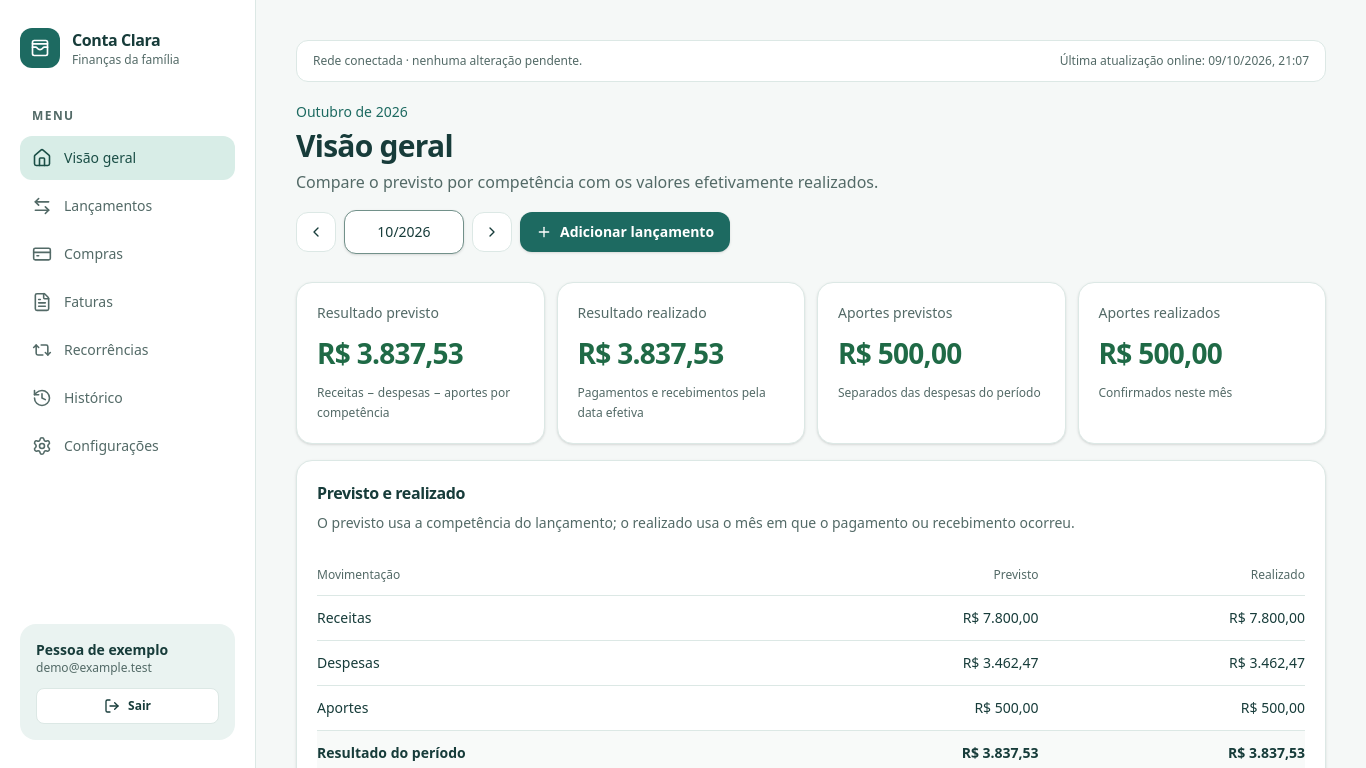
Test: application navigation and preview screens › opens member settings with admin controls and the current household roster
This screenshot has width=1366, height=768.
Expected: the heading "Visão geral" is shown, [296, 125, 453, 166]
What coordinates should you click on to do the following:
click the link "Configurações"
I would click on:
 (95, 446)
Its box is [32, 436, 159, 456].
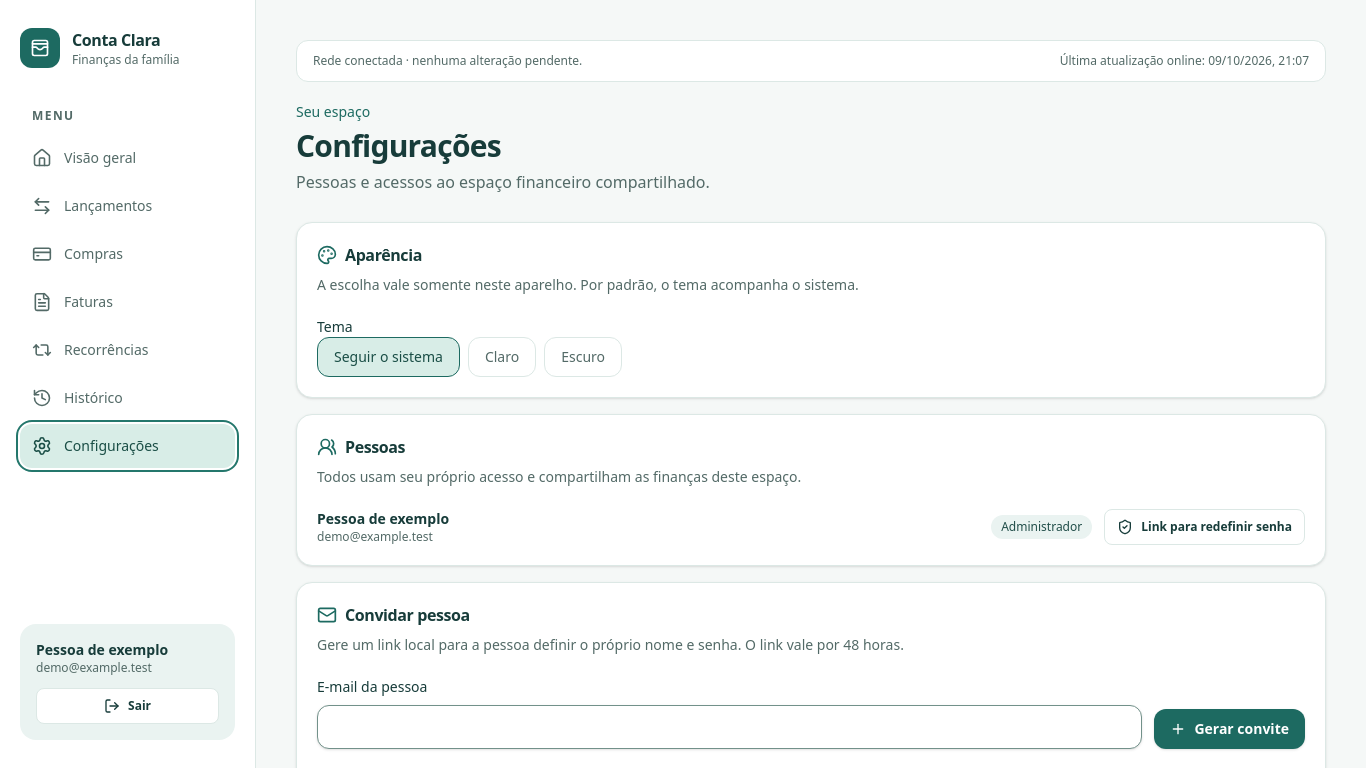
Now the heading "Configurações" is shown, box [296, 125, 501, 166]
Now the heading "Pessoas" is shown, box [317, 436, 405, 458]
Now the text "Pessoa de exemplo" is shown once, box [317, 509, 449, 528]
